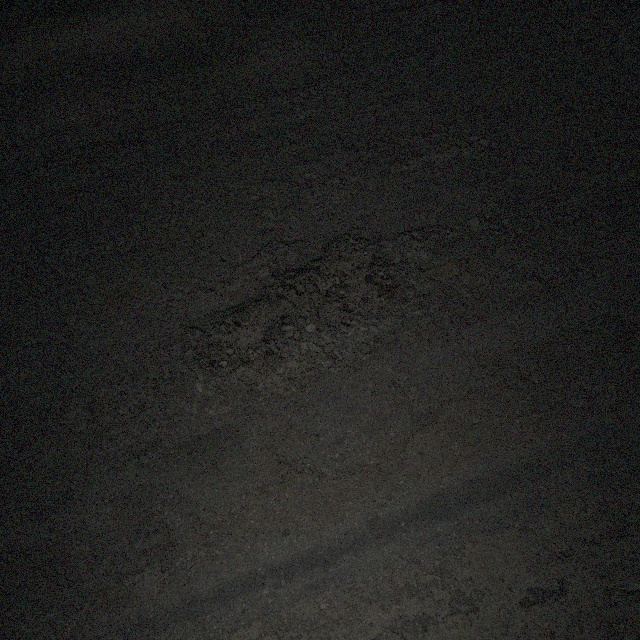pothole: (180, 226, 401, 377), (398, 128, 508, 171)
